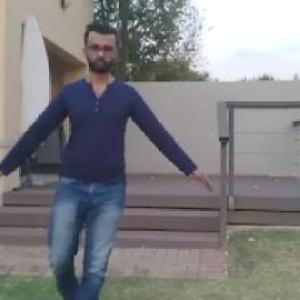land: (1, 29, 187, 299)
